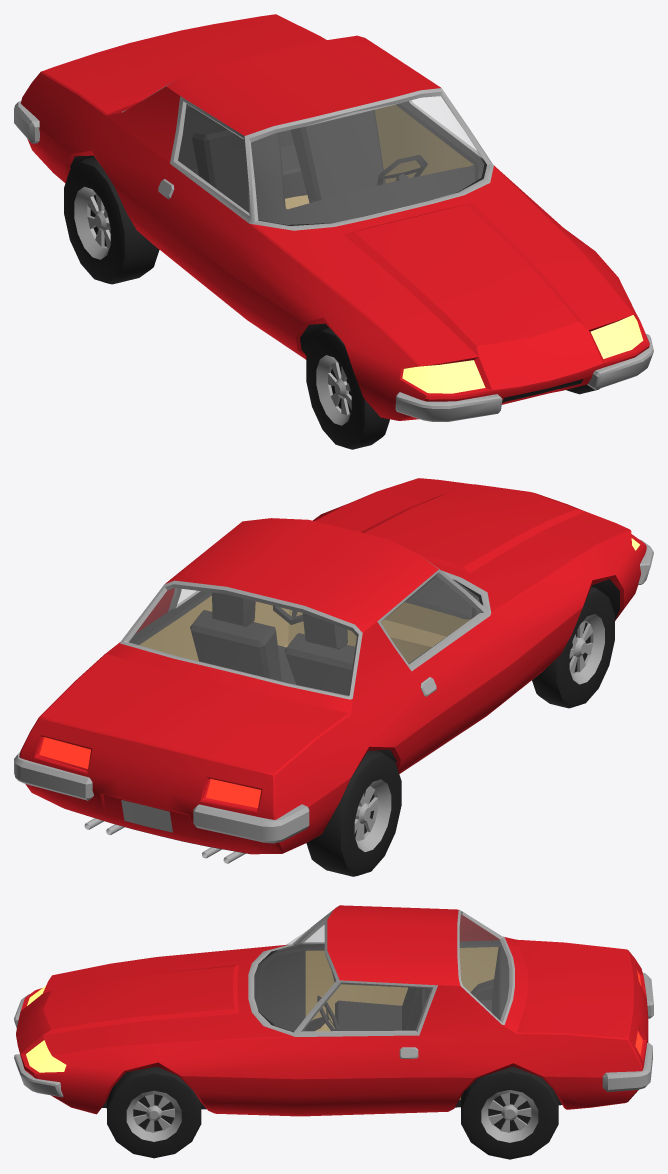
Rendered from classic-coupe.glb.
The picture shows the model from 3 angles, top to bottom: view 1: azimuth 30°, elevation 25°; view 2: azimuth 150°, elevation 25°; view 3: azimuth 270°, elevation 25°; orthographic projection. The views are drawn at different scales.
Visible parts, largest first — view 1: BODY, WHEEL_RR_TYRE, WHEEL_RF_TYRE, WHEEL_RR_RIM, WHEEL_RF_RIM; view 2: BODY, WHEEL_RR_TYRE, WHEEL_RF_TYRE, WHEEL_RR_RIM, WHEEL_RF_RIM; view 3: BODY, WHEEL_LR_TYRE, WHEEL_LF_TYRE, WHEEL_LR_RIM, WHEEL_LF_RIM.
Boxes of the visible parts, box(x1,y1,x2,y2) form: BODY: box(14, 14, 653, 421); WHEEL_RR_TYRE: box(64, 157, 159, 284); WHEEL_RF_TYRE: box(306, 327, 389, 449); WHEEL_RR_RIM: box(74, 186, 110, 259); WHEEL_RF_RIM: box(316, 355, 351, 425); BODY: box(14, 478, 653, 863); WHEEL_RR_TYRE: box(306, 750, 401, 876); WHEEL_RF_TYRE: box(532, 586, 614, 708); WHEEL_RR_RIM: box(354, 779, 391, 851); WHEEL_RF_RIM: box(569, 614, 604, 684); BODY: box(14, 905, 653, 1116); WHEEL_LR_TYRE: box(461, 1066, 558, 1159); WHEEL_LF_TYRE: box(107, 1066, 201, 1158); WHEEL_LR_RIM: box(481, 1090, 538, 1142); WHEEL_LF_RIM: box(126, 1090, 181, 1141).
Size of the model in its own units: 1.86 by 1.41 by 4.62.
